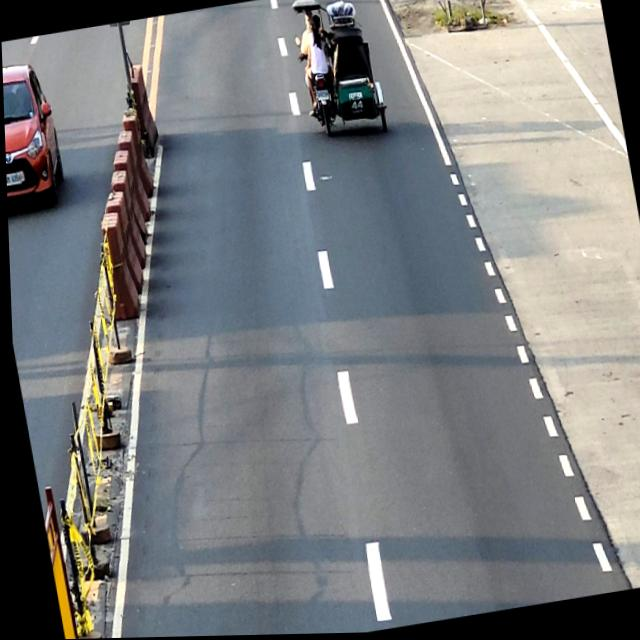Car: (2, 60, 68, 215)
License-Plate: (5, 172, 21, 186), (315, 91, 329, 103)
Tricycle: (288, 0, 390, 146)
